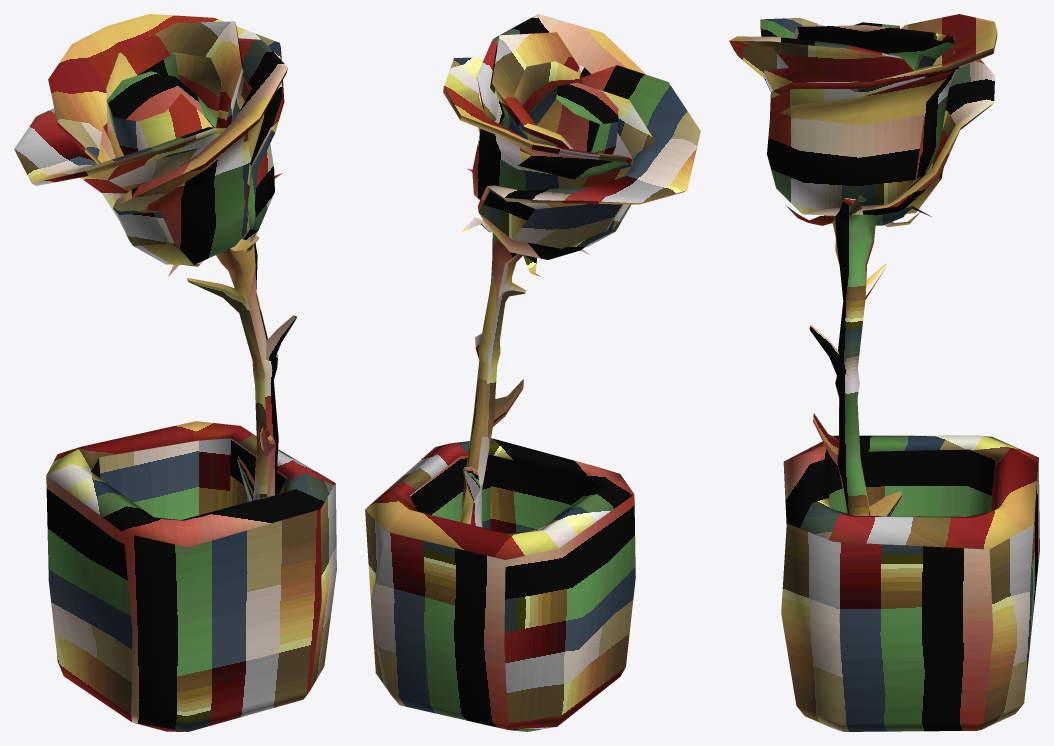
File: Prop_RoseJar.glb
3 renders of one model, left to right at view 1: azimuth 30°, elevation 25°; view 2: azimuth 150°, elevation 25°; view 3: azimuth 270°, elevation 25°, orthographic. The views are drawn at different scales.
Parts seen in each view (by area): view 1: Prop_RoseJar; view 2: Prop_RoseJar; view 3: Prop_RoseJar.
Boxes of the visible parts, <box> form: Prop_RoseJar: <box>14,14,336,731</box>; Prop_RoseJar: <box>365,14,700,731</box>; Prop_RoseJar: <box>729,14,1039,731</box>.
Size of the model in its own units: 0.1648 by 0.3673 by 0.1509.
1 material, 1 textured.
